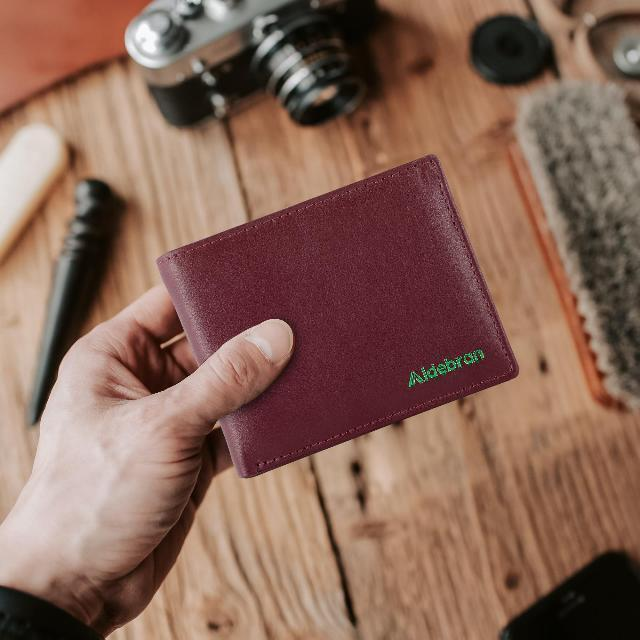wallet: (151, 150, 524, 482)
